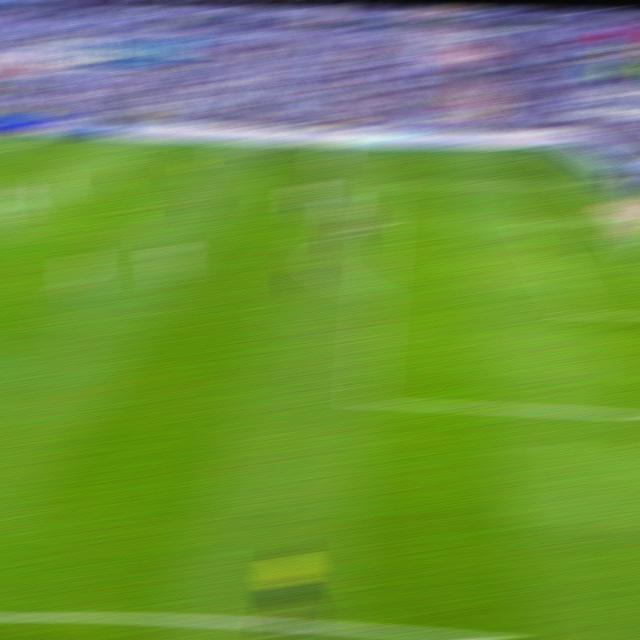bigarea_bottom_inner: (563, 299, 592, 326)
bigarea_top_inner: (374, 179, 396, 187)
bigarea_top_outter: (567, 178, 592, 190)
corner: (542, 149, 568, 157)
smallarea_top_outter: (596, 212, 621, 226)
